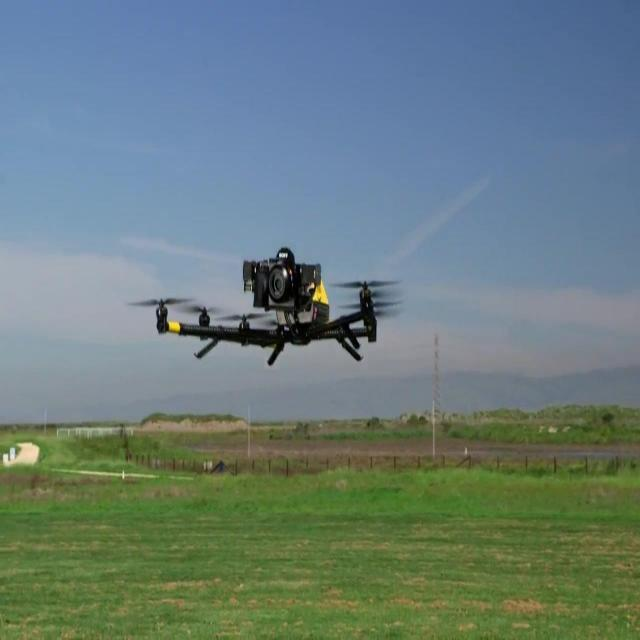UAV: (126, 237, 406, 367)
